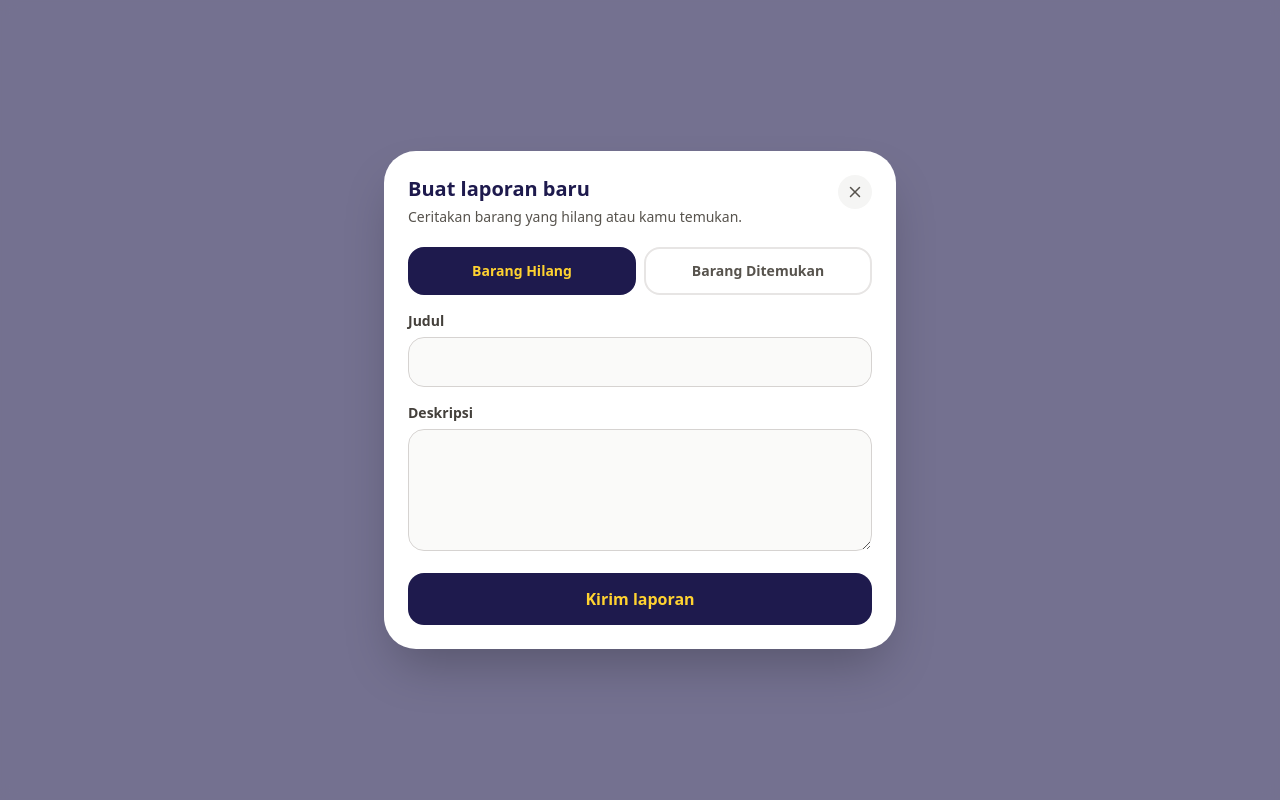
AddModal › validasi: judul & deskripsi wajib
Type "pendek" into the text box labelled "Deskripsi".
click(640, 490); type("pendek")  # box [408,429,872,551]
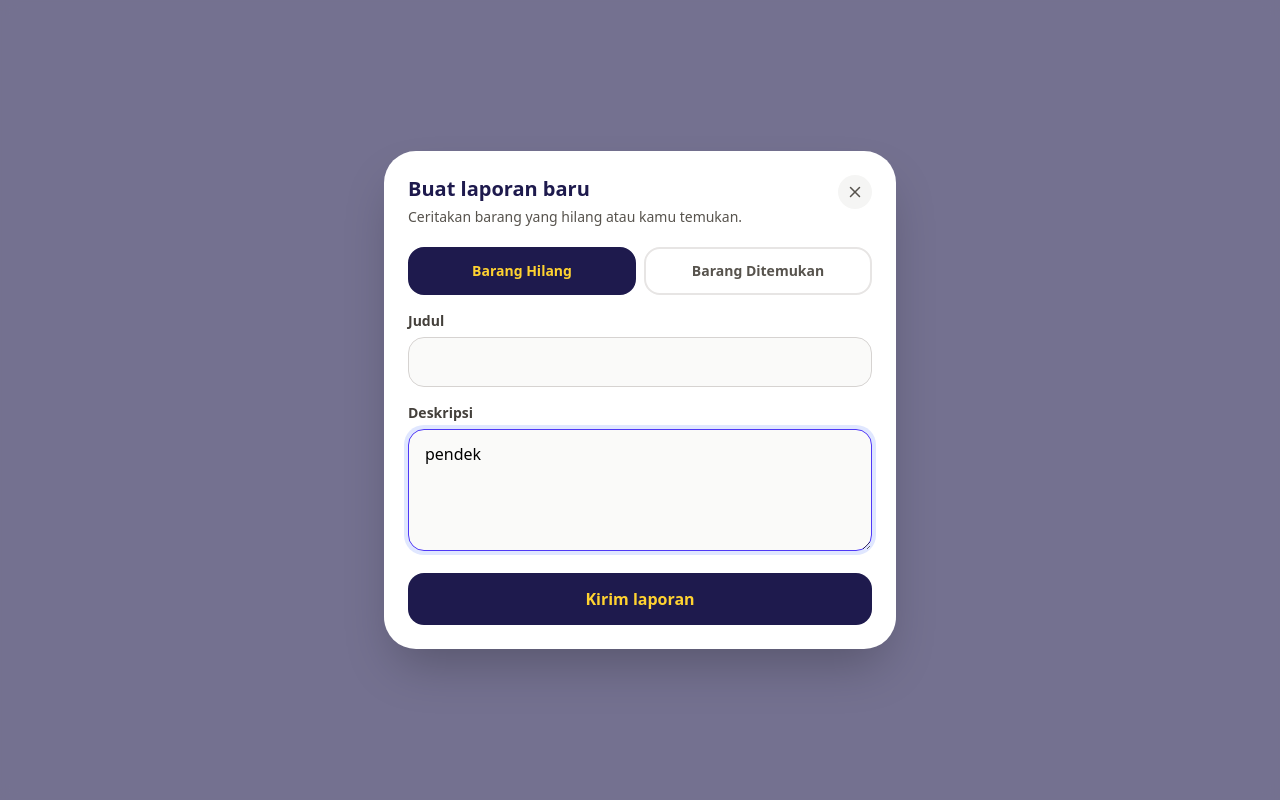
Click the button "Kirim laporan".
click(640, 599)  # box [408,573,872,625]
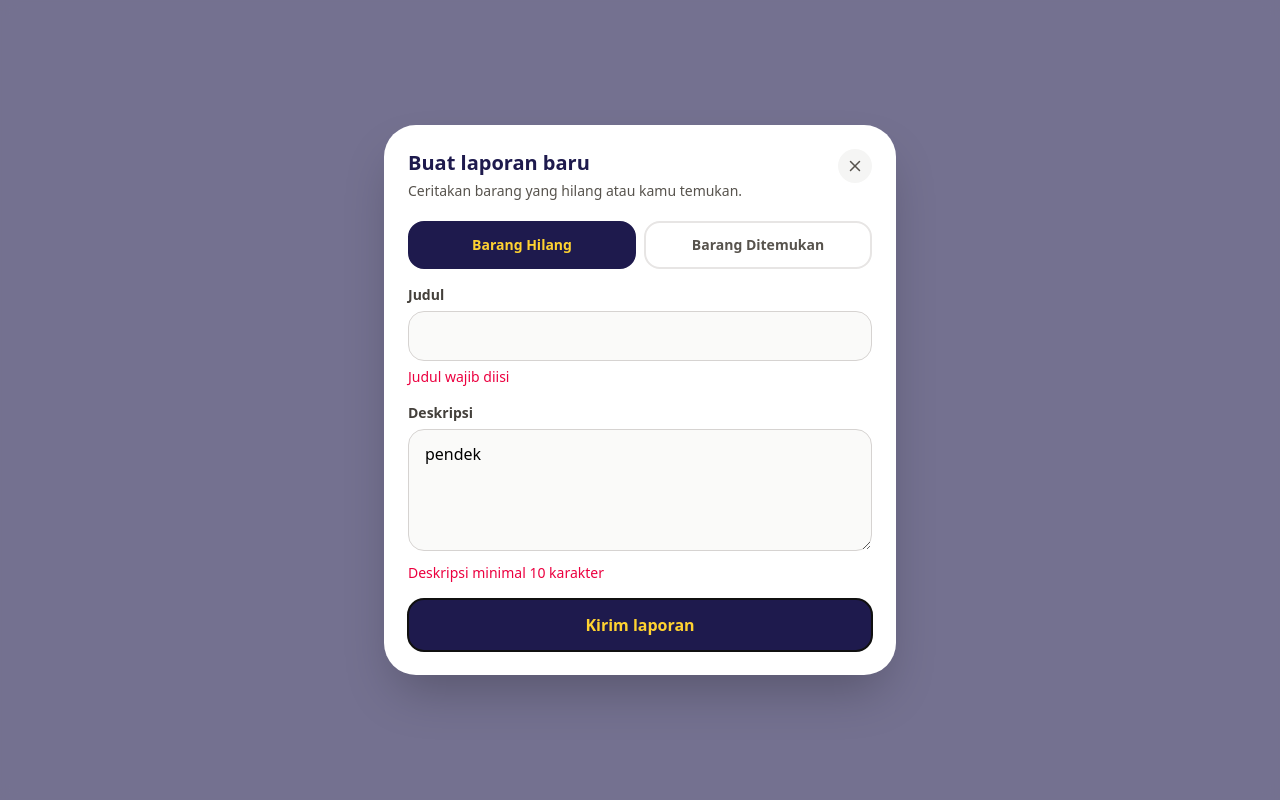
Check: the text "Judul wajib diisi" is shown, box [408,367,510,386]
Check: the text "Deskripsi minimal 10 karakter" is shown, box [408,563,604,582]
